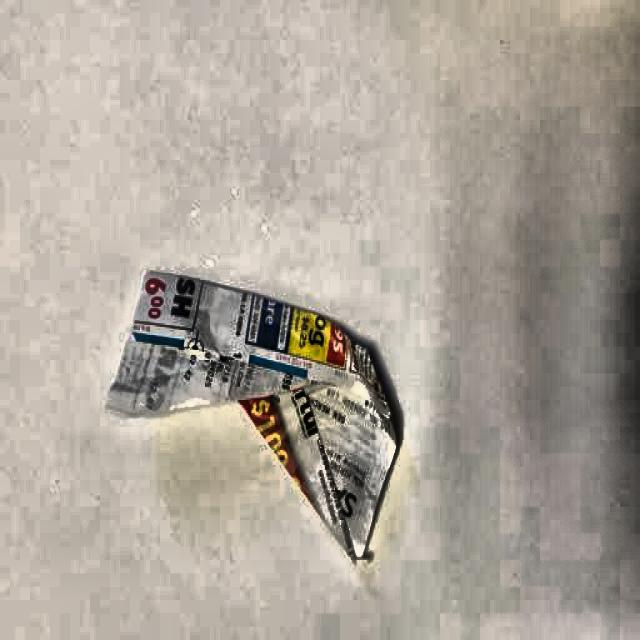paper: (109, 257, 412, 577)
